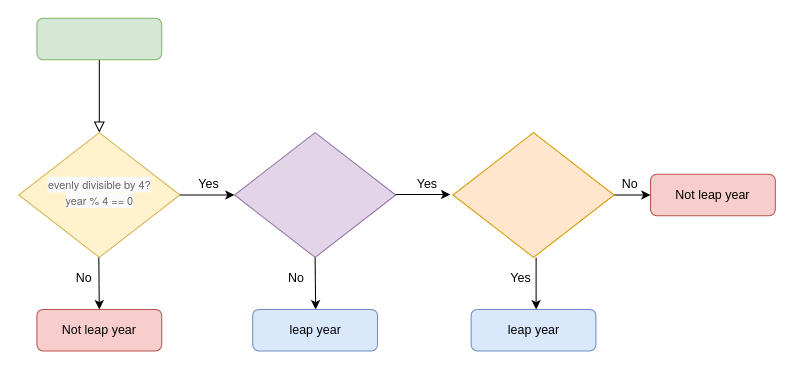
Image size: 794x369. Some labels were removed from this diagram. The centre of each missing label's shape, as x and y in pixels:
evenly divisible by 100?: pixel 314 194
evenly divisible by 400? year % 400 == 0: pixel 533 194
Start: pixel 99 38
